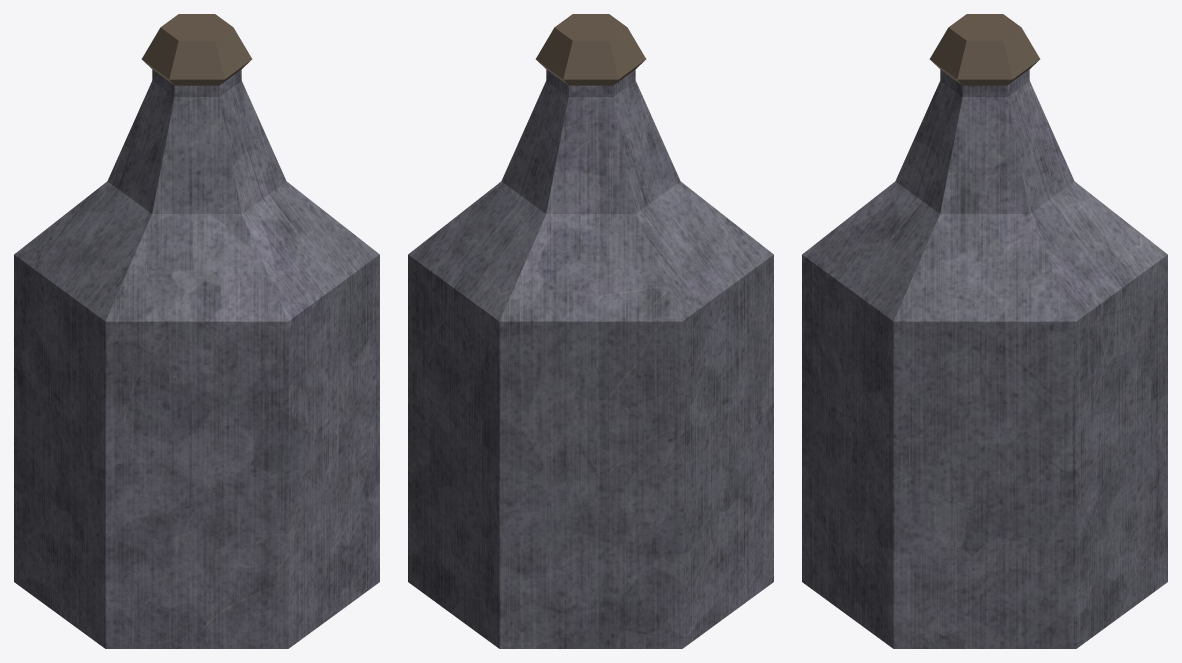
Rendered from bottle1_closed.fbx.
The picture shows the model from 3 angles, left to right: view 1: azimuth 30°, elevation 25°; view 2: azimuth 150°, elevation 25°; view 3: azimuth 270°, elevation 25°; orthographic projection.
Parts seen in each view (by area): view 1: Cylinder.010; view 2: Cylinder.010; view 3: Cylinder.010.
Part boxes in pixels (x1=…): Cylinder.010: x1=14, y1=14, x2=379, y2=648; Cylinder.010: x1=408, y1=14, x2=773, y2=648; Cylinder.010: x1=802, y1=14, x2=1167, y2=648.
Size of the model in its own units: 35.04 by 67.66 by 40.46.
Materials: 3 (2 with a texture image).
